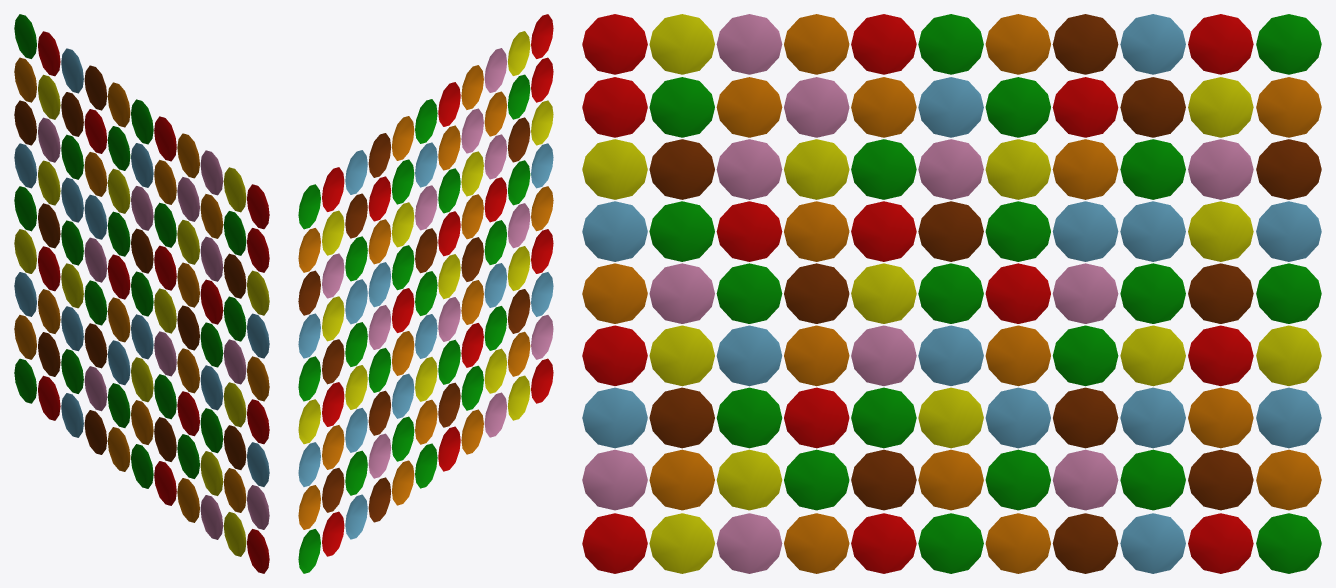
Rendered from wall_marble_01.FBX.
The picture shows the model from 3 angles, left to right: view 1: azimuth 30°, elevation 25°; view 2: azimuth 150°, elevation 25°; view 3: azimuth 270°, elevation 25°; orthographic projection. The views are drawn at different scales.
Parts seen in each view (by area): view 1: wall_marble_01; view 2: wall_marble_01; view 3: wall_marble_01.
Part boxes in pixels (box(x1,y1,x2,y2)): wall_marble_01: box(14, 14, 269, 573); wall_marble_01: box(298, 14, 553, 573); wall_marble_01: box(582, 14, 1321, 573).
Bounding box in the file's own units: 1.13 × 70.33 × 84.17.
